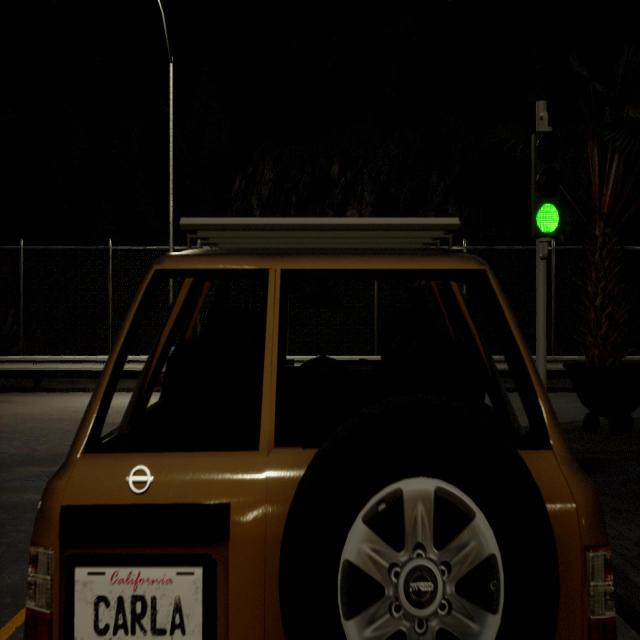Vehicle: (25, 218, 615, 638)
traffic_light: (530, 127, 564, 237)
